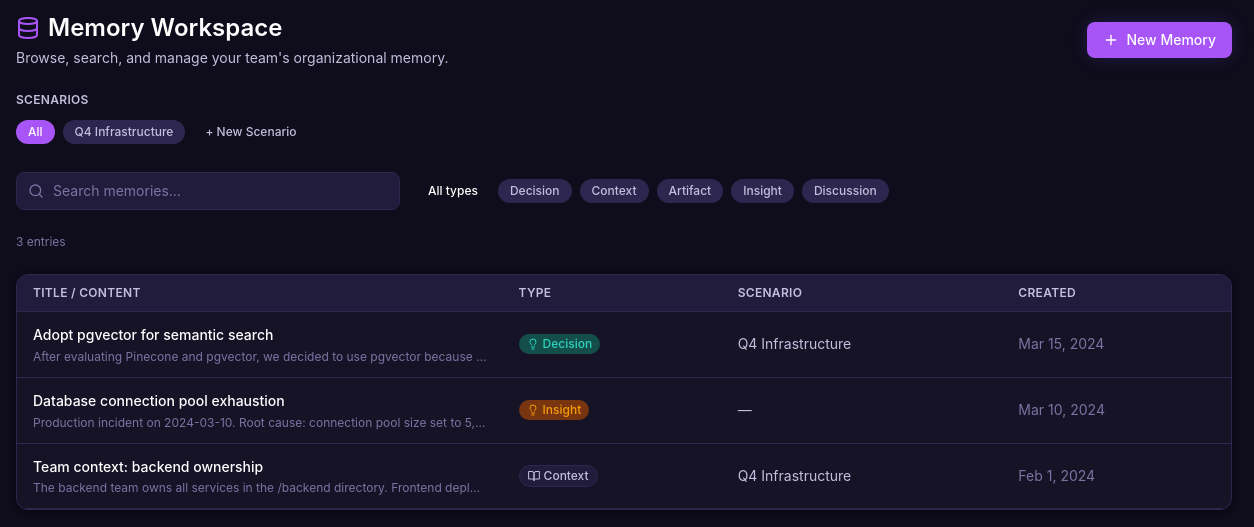
Scenario: MemoryPage — scenario filter › filters table when scenario chip is clicked
Check: the text "Adopt pgvector for semantic search" is shown, box [33,326,273,343]
// Click the chip button (aria-pressed on the button in ScenarioList)
Click the button "Q4 Infrastructure": coordinates (124, 132) [63,120,185,144]
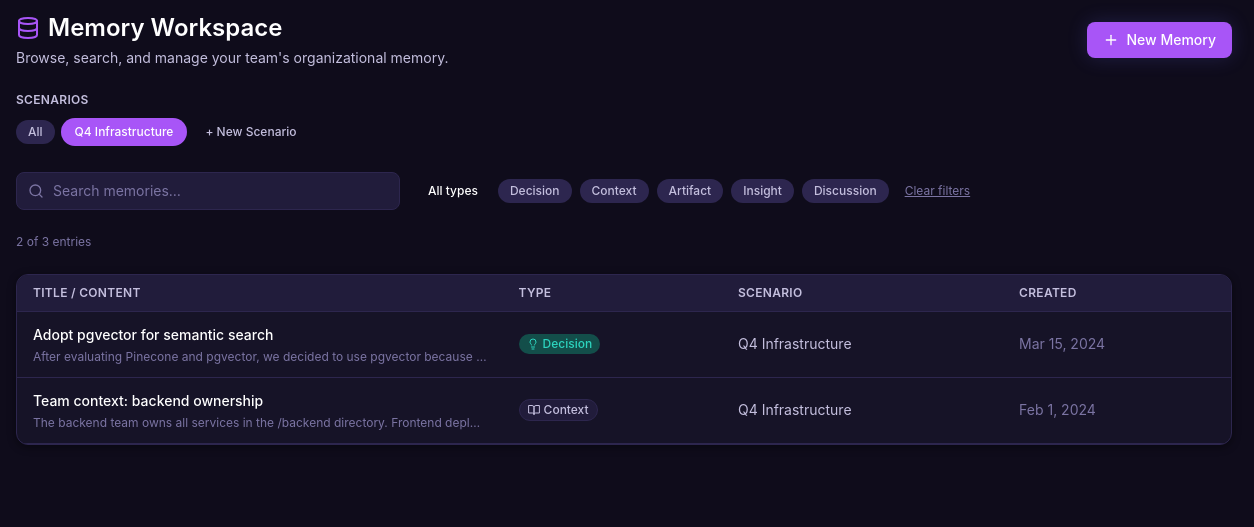
Check: the text "Database connection pool exhaustion" is gone
